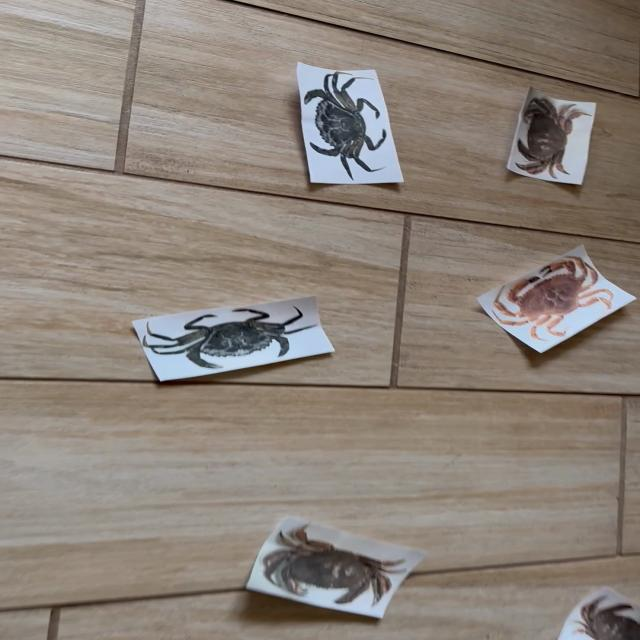egc: (143, 307, 315, 369), (305, 72, 386, 180)
